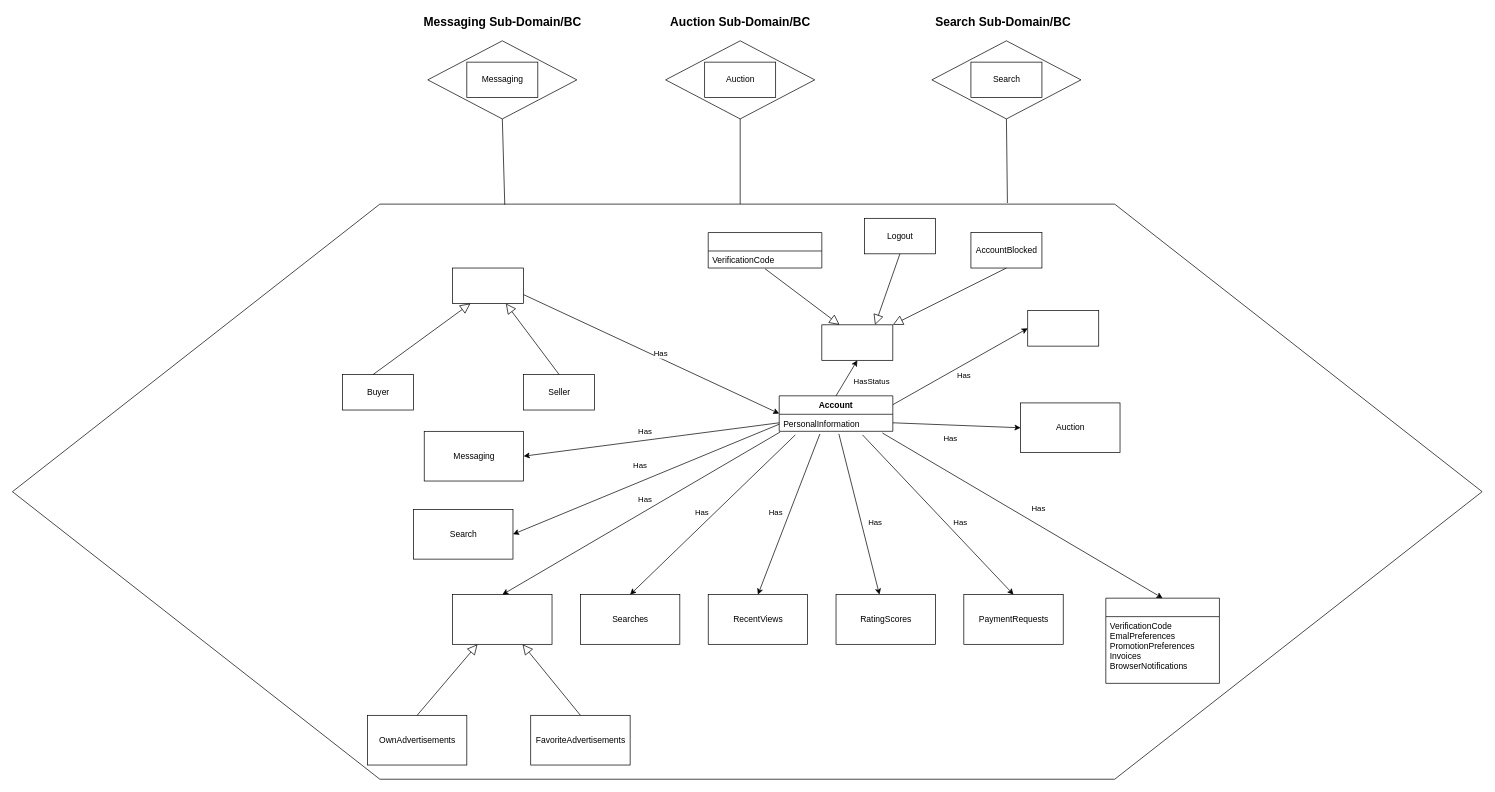
Image size: 1495x792. Some labels were removed from this diagram. The box of each missing label's shape, as (x1, y1, x2, y2) in pixels:
Advertisements: (452, 594, 552, 644)
Credentials: (1027, 310, 1099, 346)
LoggingEvent: (821, 324, 893, 360)
LogIn: (708, 232, 822, 268)
Settings: (1105, 597, 1219, 683)
user: (452, 267, 524, 304)
